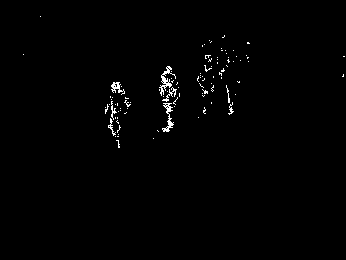person: (105, 81, 131, 147), (159, 64, 180, 133)
